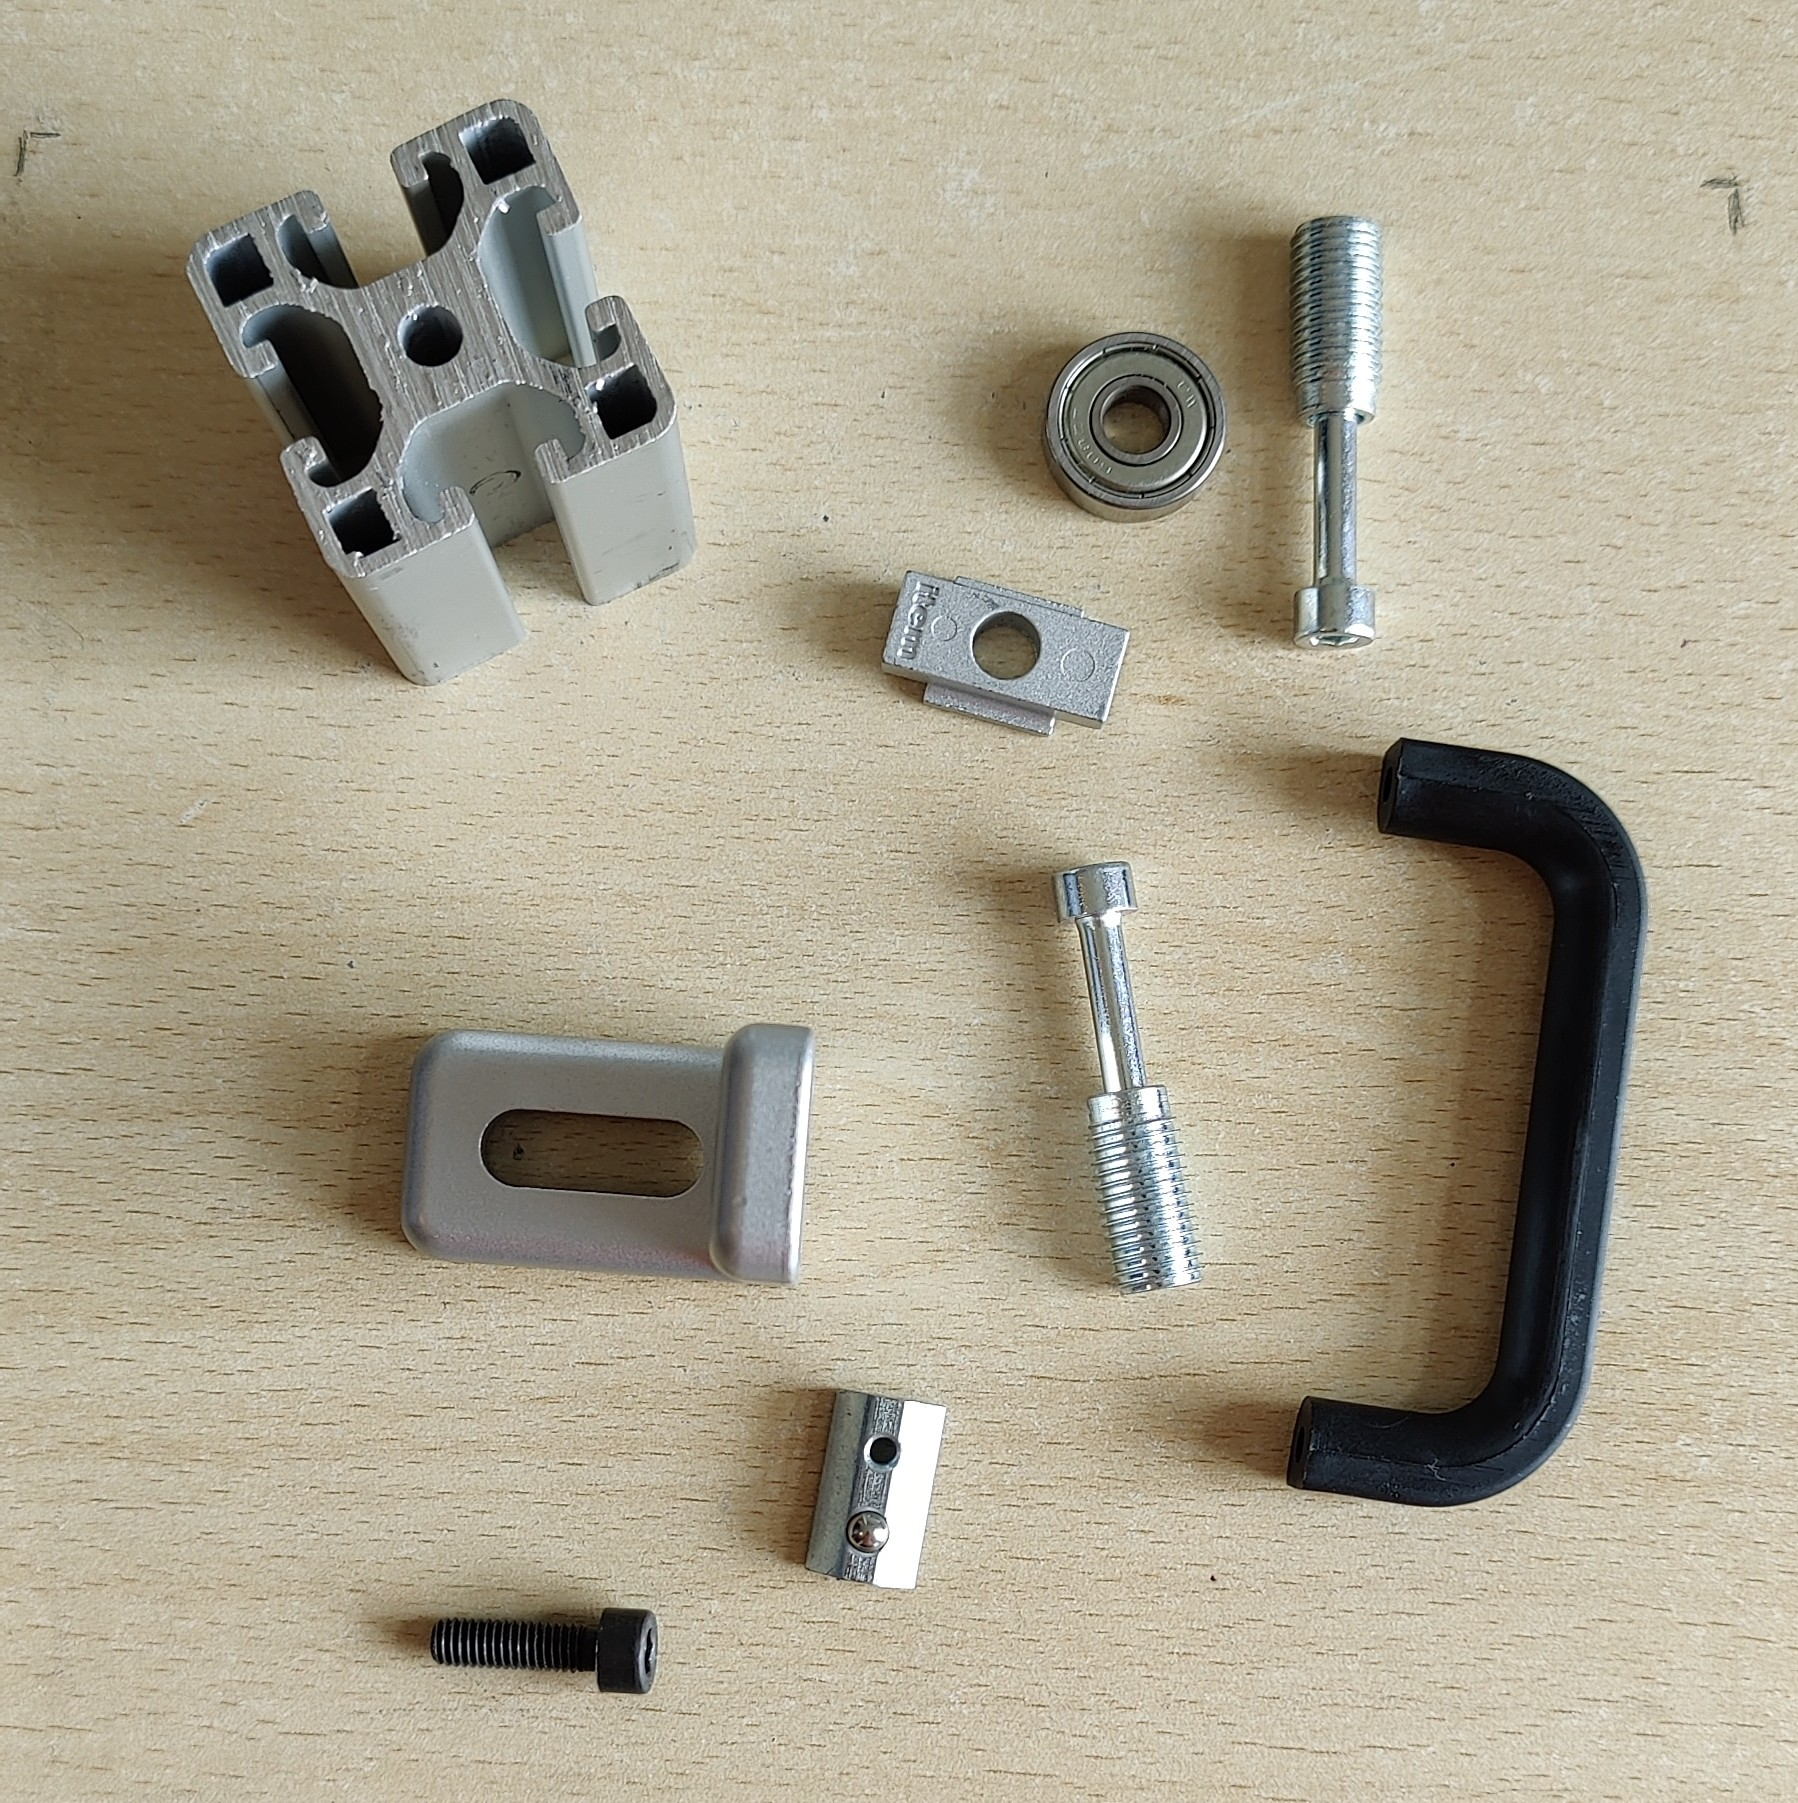Aluminium Extension: (181, 92, 698, 688)
Ball Bearing: (1039, 329, 1228, 527)
Multiwinkel: (397, 1018, 818, 1289)
Pull Handle: (1283, 734, 1655, 1512)
Shoulder Socket Head Cap Screw: (1047, 855, 1210, 1301), (1284, 211, 1386, 655)
Socket Head Cap Screw: (425, 1600, 660, 1699)
T Nut Square: (874, 566, 1138, 741)
T Spring Nut: (799, 1386, 950, 1594)
